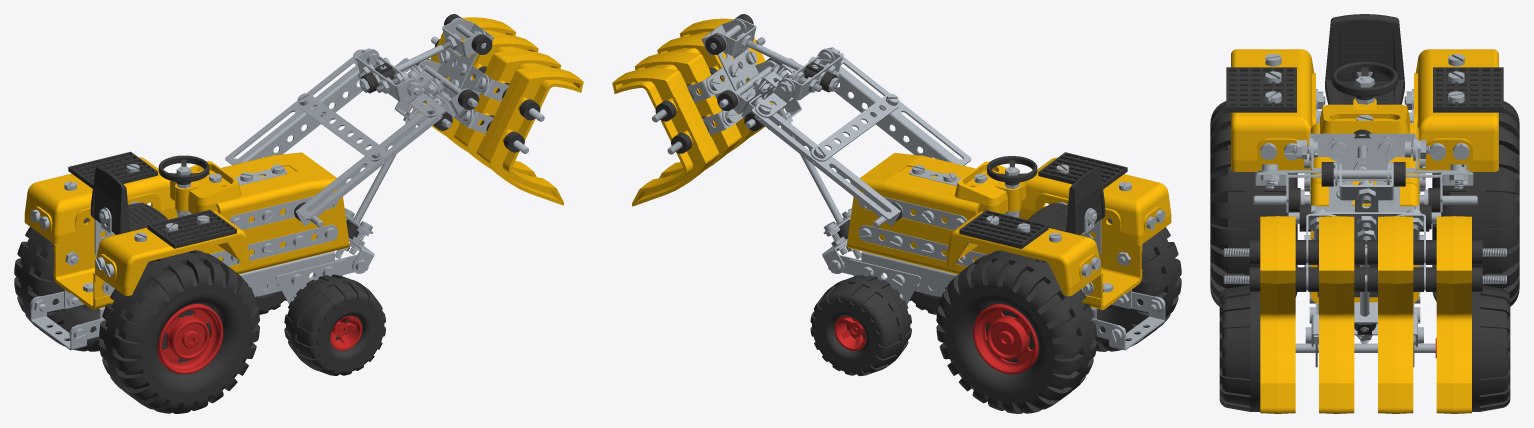
Rendered from Traktor OU.glb.
3 renders of one model, left to right at view 1: azimuth 30°, elevation 25°; view 2: azimuth 150°, elevation 25°; view 3: azimuth 270°, elevation 25°, orthographic. The views are drawn at different scales.
Parts seen in each view (by area): view 1: Reifen 90 x 40 x 37 (×2), Ladeelement (×4), Traktor Schutzblech (×2), Reifen 54 x 10 x 31, Winkelstab 10 (×2), Traktor U 40 (×2), Gitterplatte (×2), Nabe Breitreifen groß DDR, Traktor U 20 (×2), Sitz (×2), Traktor Armaturenbrett, Traktor Kühlergrill (+11 smaller); view 2: Reifen 90 x 40 x 37 (×2), Ladeelement (×4), Traktor Schutzblech (×2), Reifen 54 x 10 x 31, Winkelstab 10 (×2), Traktor U 40 (×2), Gitterplatte (×2), Nabe Breitreifen groß DDR, Traktor U 20 (×2), Sitz (×2), Traktor Armaturenbrett, Traktor Kühlergrill (+11 smaller); view 3: Ladeelement (×4), Reifen 90 x 40 x 37 (×2), Traktor Schutzblech (×2), Reifen 54 x 10 x 31 (×2), Gitterplatte (×2), Sitz (×2), Traktor Armaturenbrett, Elastikstellring schmal DDR (×8), Bügel 1 x 3 x 1 groß (×3), Bügel 1 x 1 x 1 (×2), Welle 95 (×2), Lenkrad (+9 smaller).
Boxes of the visible parts, x1,y1,x2,y2 form: Reifen 90 x 40 x 37 (×2): (14,217,259,413); Ladeelement (×4): (412,17,583,205); Traktor Schutzblech (×2): (24,157,249,295); Reifen 54 x 10 x 31: (284,274,385,375); Winkelstab 10 (×2): (225,49,445,225); Traktor U 40 (×2): (216,155,314,271); Gitterplatte (×2): (68,151,236,248); Nabe Breitreifen groß DDR: (157,303,223,374); Traktor U 20 (×2): (53,190,251,309); Sitz (×2): (90,167,167,234); Traktor Armaturenbrett: (170,161,241,213); Traktor Kühlergrill: (276,152,349,255); Reifen 90 x 40 x 37 (×2): (936,218,1181,413); Ladeelement (×4): (612,18,784,206); Traktor Schutzblech (×2): (947,157,1171,296); Reifen 54 x 10 x 31: (810,275,911,375); Winkelstab 10 (×2): (751,57,971,225); Traktor U 40 (×2): (882,155,979,271); Gitterplatte (×2): (959,152,1127,248); Nabe Breitreifen groß DDR: (973,304,1038,374); Traktor U 20 (×2): (944,191,1142,309); Sitz (×2): (1028,168,1105,235); Traktor Armaturenbrett: (955,161,1026,214); Traktor Kühlergrill: (847,153,919,256); Ladeelement (×4): (1260,216,1471,413); Reifen 90 x 40 x 37 (×2): (1210,101,1519,306); Traktor Schutzblech (×2): (1231,49,1498,171); Reifen 54 x 10 x 31 (×2): (1219,284,1510,411); Gitterplatte (×2): (1226,67,1503,112); Sitz (×2): (1325,14,1404,104); Traktor Armaturenbrett: (1320,98,1409,133); Elastikstellring schmal DDR (×8): (1249,162,1440,291); Bügel 1 x 3 x 1 groß (×3): (1309,133,1417,347); Bügel 1 x 1 x 1 (×2): (1335,158,1393,200); Welle 95 (×2): (1253,195,1477,352); Lenkrad: (1332,61,1397,100).
Size of the model in its own units: 0.3151 by 0.1654 by 0.131.
